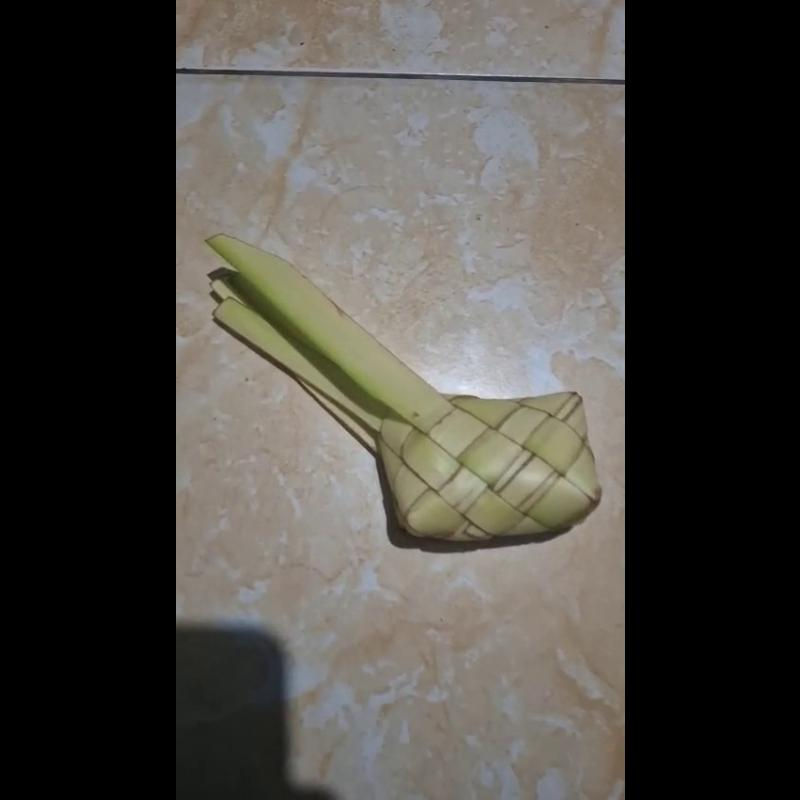Tipat Bantal: (206, 229, 602, 552)
